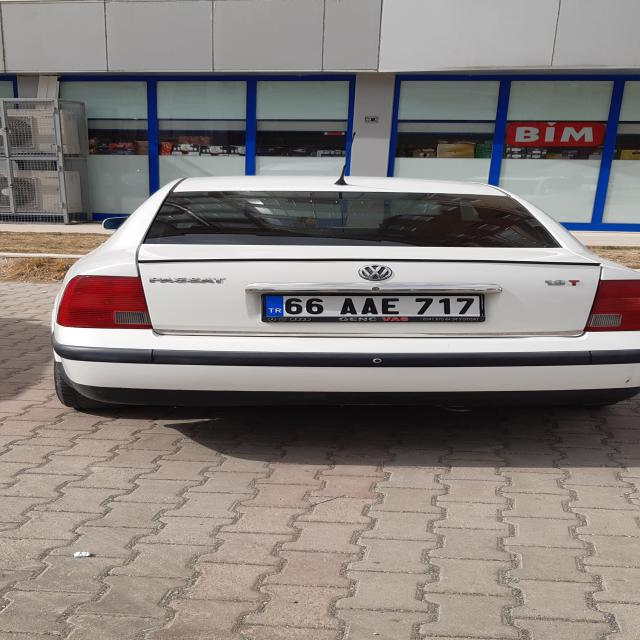plate: (263, 295, 482, 317)
